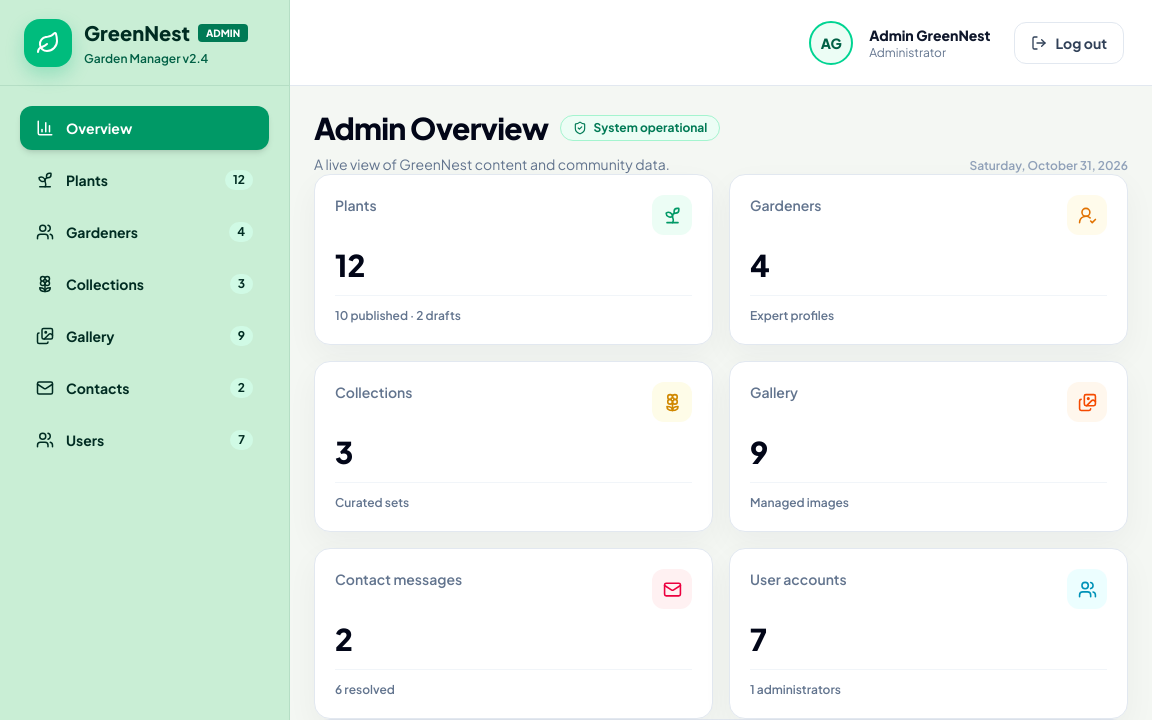
Scenario: Admin dashboard › does not offer role-changing actions in user management
Click the button "Users 7" at [144, 440], box x1=20 y1=418 x2=269 y2=462
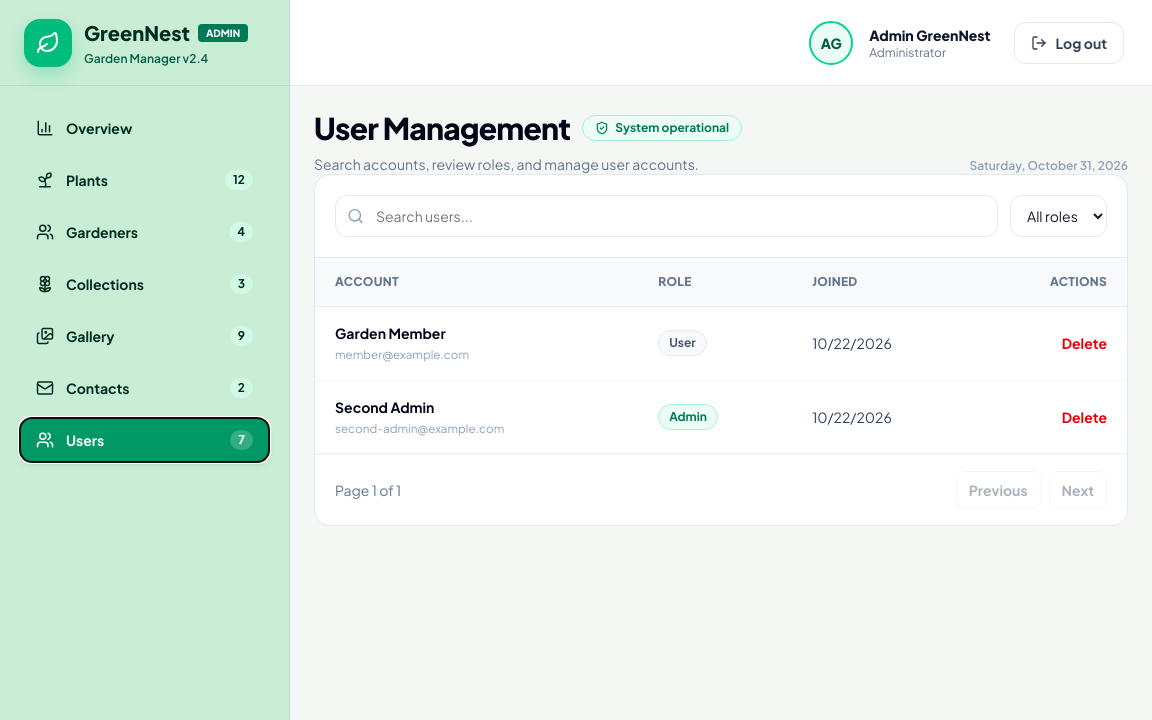
Check: the text "Garden Member" is shown, box x1=335 y1=324 x2=446 y2=342
Check: the number of buttons "Delete" is 2, box x1=1062 y1=333 x2=1107 y2=353; x1=1062 y1=407 x2=1107 y2=427
